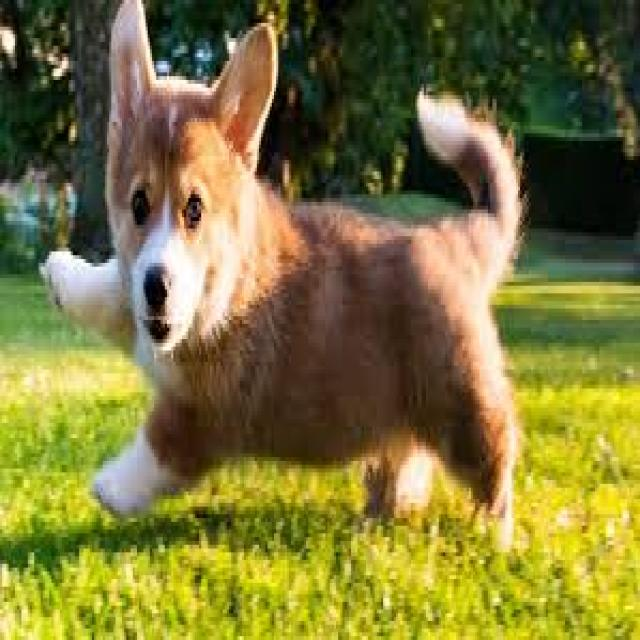CORGI: (40, 0, 538, 555)
